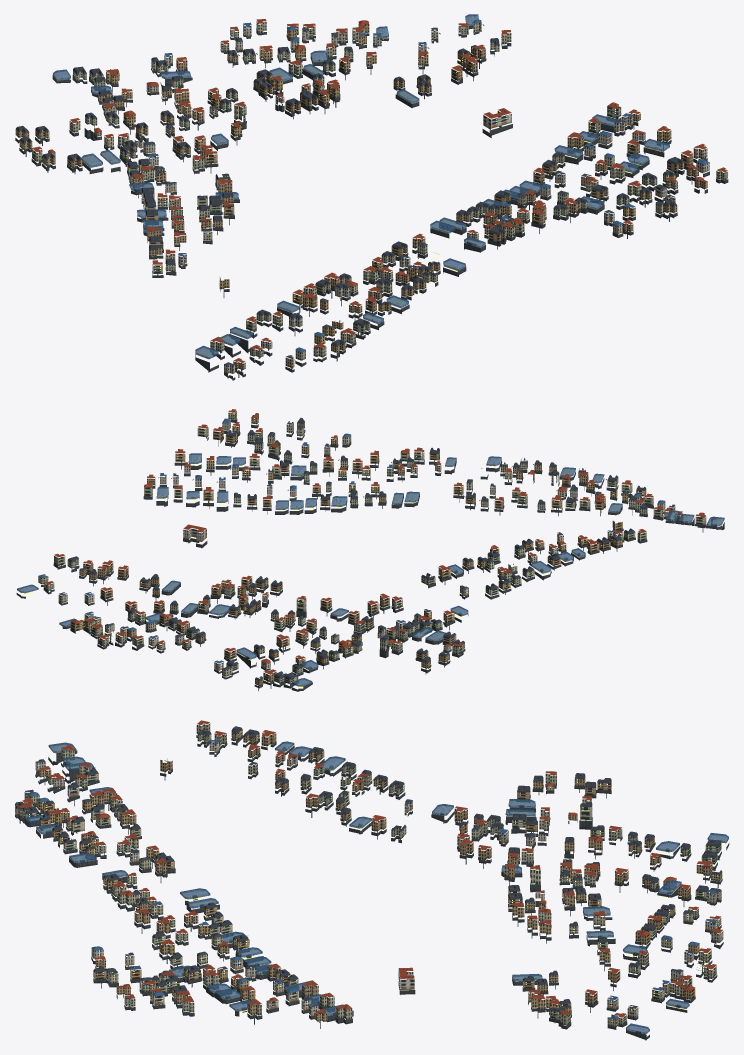
File: osm_buildings_T_W01_N00_Q3.glb
3 renders of one model, top to bottom at view 1: azimuth 30°, elevation 25°; view 2: azimuth 150°, elevation 25°; view 3: azimuth 270°, elevation 25°, orthographic. The views are drawn at different scales.
Visible parts, largest first — view 1: OSM_PBR_T_W01_N00_Q3_foundation, OSM_PBR_T_W01_N00_Q3_wall_french_ochre, OSM_PBR_T_W01_N00_Q3_wall_cream_stucco, OSM_PBR_T_W01_N00_Q3_greenhouse_blend, OSM_PBR_T_W01_N00_Q3_roof_terracotta, OSM_PBR_T_W01_N00_Q3_roof_mansard_slate, OSM_PBR_T_W01_N00_Q3_roof_mansard_deck, OSM_PBR_T_W01_N00_Q3_wall_warm_white, OSM_PBR_T_W01_N00_Q3_roof_mint_metal, OSM_PBR_T_W01_N00_Q3_wall_pastel_sand, OSM_PBR_T_W01_N00_Q3_trim_cornice, OSM_PBR_T_W01_N00_Q3_roof_alpine_blue (+1 smaller); view 2: OSM_PBR_T_W01_N00_Q3_foundation, OSM_PBR_T_W01_N00_Q3_wall_french_ochre, OSM_PBR_T_W01_N00_Q3_wall_cream_stucco, OSM_PBR_T_W01_N00_Q3_greenhouse_blend, OSM_PBR_T_W01_N00_Q3_roof_terracotta, OSM_PBR_T_W01_N00_Q3_roof_mansard_slate, OSM_PBR_T_W01_N00_Q3_roof_mansard_deck, OSM_PBR_T_W01_N00_Q3_wall_warm_white, OSM_PBR_T_W01_N00_Q3_roof_mint_metal, OSM_PBR_T_W01_N00_Q3_balcony_railing, OSM_PBR_T_W01_N00_Q3_window_emissive_warm, OSM_PBR_T_W01_N00_Q3_wall_pastel_sand (+2 smaller); view 3: OSM_PBR_T_W01_N00_Q3_foundation, OSM_PBR_T_W01_N00_Q3_wall_french_ochre, OSM_PBR_T_W01_N00_Q3_wall_cream_stucco, OSM_PBR_T_W01_N00_Q3_greenhouse_blend, OSM_PBR_T_W01_N00_Q3_roof_terracotta, OSM_PBR_T_W01_N00_Q3_roof_mansard_slate, OSM_PBR_T_W01_N00_Q3_roof_mansard_deck, OSM_PBR_T_W01_N00_Q3_wall_warm_white, OSM_PBR_T_W01_N00_Q3_trim_cornice, OSM_PBR_T_W01_N00_Q3_roof_mint_metal, OSM_PBR_T_W01_N00_Q3_wall_pastel_sand, OSM_PBR_T_W01_N00_Q3_roof_alpine_blue (+2 smaller).
Part boxes in pixels (box(x1,y1,x2,y2)): OSM_PBR_T_W01_N00_Q3_foundation: box(15, 25, 728, 380); OSM_PBR_T_W01_N00_Q3_wall_french_ochre: box(15, 22, 707, 369); OSM_PBR_T_W01_N00_Q3_wall_cream_stucco: box(32, 21, 727, 360); OSM_PBR_T_W01_N00_Q3_greenhouse_blend: box(53, 14, 669, 359); OSM_PBR_T_W01_N00_Q3_roof_terracotta: box(32, 19, 727, 362); OSM_PBR_T_W01_N00_Q3_roof_mansard_slate: box(16, 27, 683, 365); OSM_PBR_T_W01_N00_Q3_roof_mansard_deck: box(17, 36, 682, 358); OSM_PBR_T_W01_N00_Q3_wall_warm_white: box(134, 24, 709, 327); OSM_PBR_T_W01_N00_Q3_roof_mint_metal: box(16, 28, 727, 367); OSM_PBR_T_W01_N00_Q3_wall_pastel_sand: box(48, 30, 667, 373); OSM_PBR_T_W01_N00_Q3_trim_cornice: box(17, 22, 726, 365); OSM_PBR_T_W01_N00_Q3_roof_alpine_blue: box(149, 19, 708, 352); OSM_PBR_T_W01_N00_Q3_foundation: box(16, 419, 724, 691); OSM_PBR_T_W01_N00_Q3_wall_french_ochre: box(70, 414, 675, 685); OSM_PBR_T_W01_N00_Q3_wall_cream_stucco: box(38, 410, 706, 684); OSM_PBR_T_W01_N00_Q3_greenhouse_blend: box(17, 453, 724, 686); OSM_PBR_T_W01_N00_Q3_roof_terracotta: box(44, 409, 705, 674); OSM_PBR_T_W01_N00_Q3_roof_mansard_slate: box(59, 418, 714, 680); OSM_PBR_T_W01_N00_Q3_roof_mansard_deck: box(17, 417, 716, 684); OSM_PBR_T_W01_N00_Q3_wall_warm_white: box(84, 420, 636, 670); OSM_PBR_T_W01_N00_Q3_roof_mint_metal: box(44, 416, 704, 684); OSM_PBR_T_W01_N00_Q3_balcony_railing: box(44, 415, 703, 679); OSM_PBR_T_W01_N00_Q3_window_emissive_warm: box(22, 413, 718, 688); OSM_PBR_T_W01_N00_Q3_wall_pastel_sand: box(120, 433, 716, 668); OSM_PBR_T_W01_N00_Q3_foundation: box(15, 735, 729, 1040); OSM_PBR_T_W01_N00_Q3_wall_french_ochre: box(15, 729, 722, 1021); OSM_PBR_T_W01_N00_Q3_wall_cream_stucco: box(18, 723, 723, 1027); OSM_PBR_T_W01_N00_Q3_greenhouse_blend: box(24, 741, 728, 1034); OSM_PBR_T_W01_N00_Q3_roof_terracotta: box(19, 720, 722, 1017); OSM_PBR_T_W01_N00_Q3_roof_mansard_slate: box(15, 727, 721, 1012); OSM_PBR_T_W01_N00_Q3_roof_mansard_deck: box(16, 726, 727, 1034); OSM_PBR_T_W01_N00_Q3_wall_warm_white: box(67, 742, 717, 1016); OSM_PBR_T_W01_N00_Q3_trim_cornice: box(15, 724, 720, 1020); OSM_PBR_T_W01_N00_Q3_roof_mint_metal: box(19, 730, 722, 1023); OSM_PBR_T_W01_N00_Q3_wall_pastel_sand: box(35, 756, 693, 1010); OSM_PBR_T_W01_N00_Q3_roof_alpine_blue: box(27, 740, 717, 1018).
Bounding box in the file's own units: 946 × 104 × 1006.
18 materials, 16 textured.
